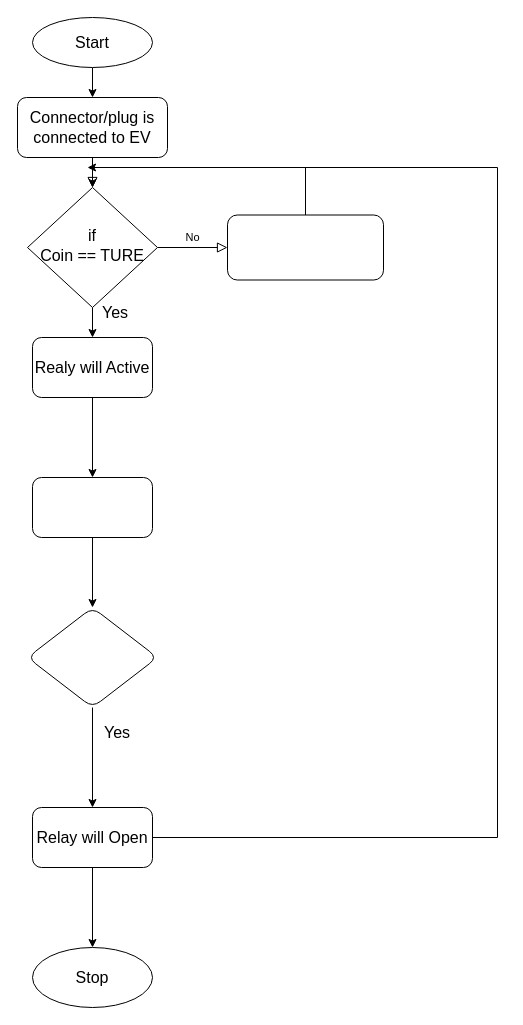
Some shapes in this 523 by 1025 pixel diagram are drawn without their labels. The box of each missing label's shape, as (x1, y1, x2, y2) in pixels:
if Timer==0: (26, 606, 158, 708)
Relay is not Active(Normally open): (226, 214, 384, 280)
Timer Will Start: (32, 476, 152, 538)
